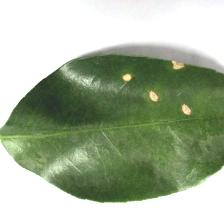canker: (111, 54, 201, 124)
